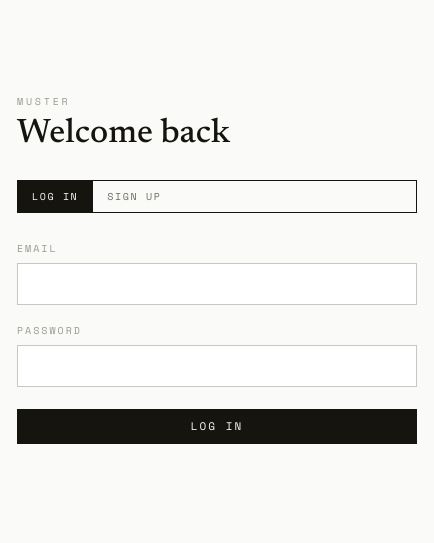
Test: AuthView › switches to Sign Up via the toggle, revealing name + confirm fields
Click the button "Sign Up" at (134, 197), box [92, 181, 175, 212]
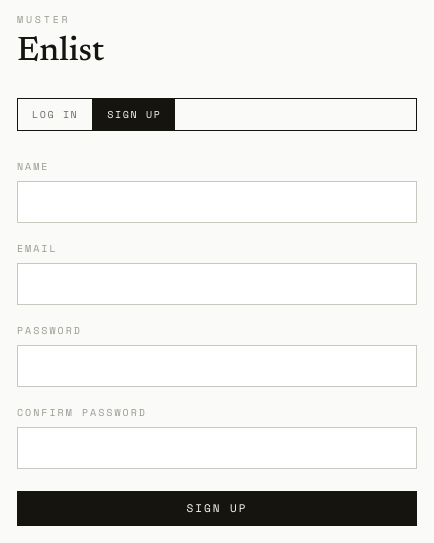
Result: the field labelled "Name" is shown at [17, 181, 417, 223]
Result: the password field labelled "Confirm Password" is shown at [17, 427, 417, 469]
